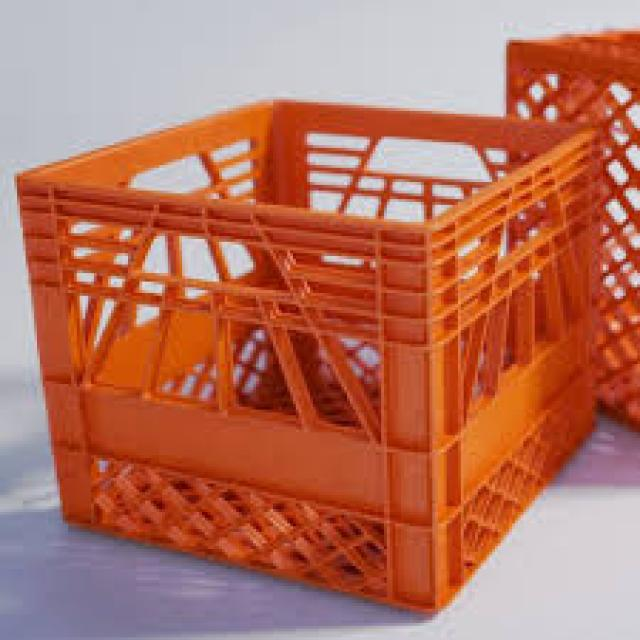basket: (0, 85, 616, 623), (509, 33, 640, 428)
